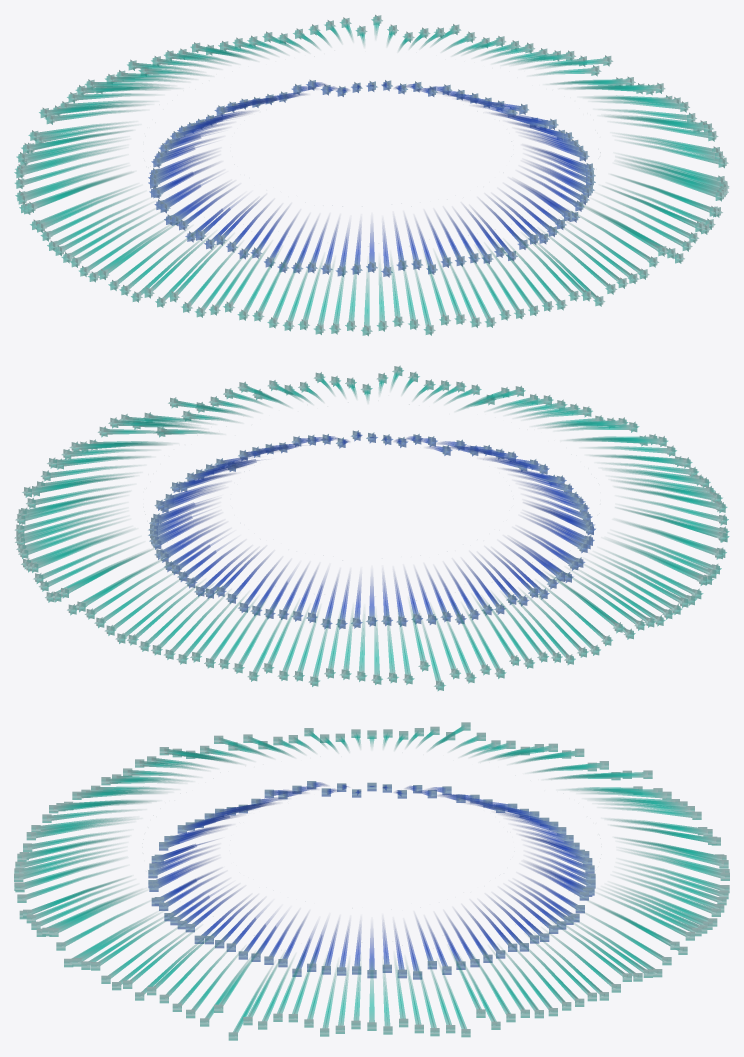
The model's file is fw_ring_teal_blue_b.glb.
The picture shows the model from 3 angles, top to bottom: view 1: azimuth 30°, elevation 25°; view 2: azimuth 150°, elevation 25°; view 3: azimuth 270°, elevation 25°; orthographic projection.
Visible parts, largest first — view 1: spire; view 2: spire; view 3: spire.
Boxes of the visible parts, bbox=[...] form: spire: bbox=[14, 14, 729, 336]; spire: bbox=[14, 365, 729, 691]; spire: bbox=[14, 722, 729, 1040].
Size of the model in its own units: 21.48 by 2.11 by 21.48.
2 materials, 2 textured.
